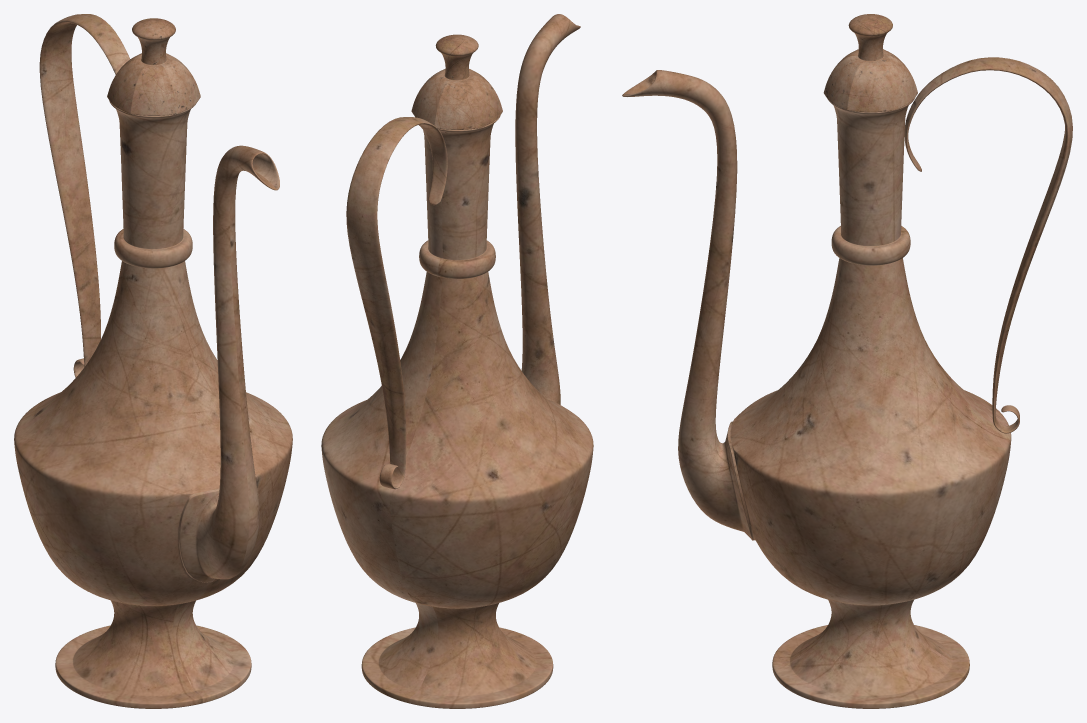
3 views of the same model, side by side, from view 1: azimuth 30°, elevation 25°; view 2: azimuth 150°, elevation 25°; view 3: azimuth 270°, elevation 25° (orthographic). The views are drawn at different scales.
Visible parts, largest first — view 1: Oriental Tea Pot.001; view 2: Oriental Tea Pot.001; view 3: Oriental Tea Pot.001.
Part boxes in pixels (x1,y1,x2,y2): Oriental Tea Pot.001: (14,14,292,708); Oriental Tea Pot.001: (321,14,593,708); Oriental Tea Pot.001: (622,14,1072,708).
Size of the model in its own units: 0.9644 by 2.47 by 1.55.
1 material, 1 textured.
